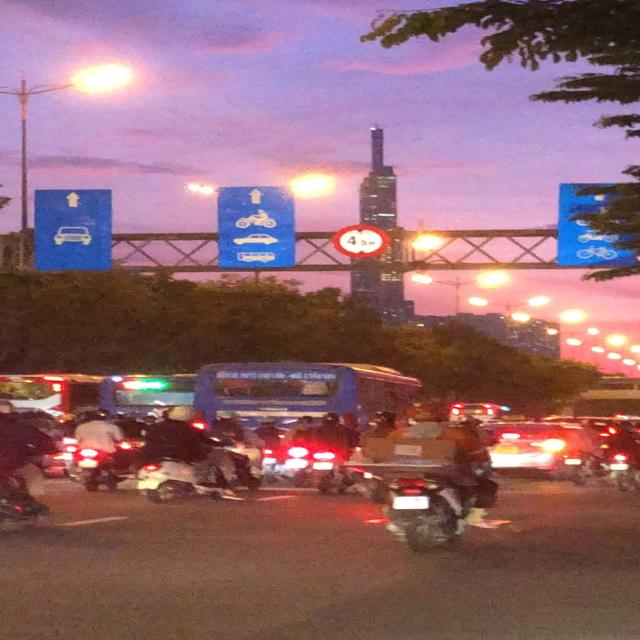Bien bao han che chieu cao: (332, 221, 396, 260)
